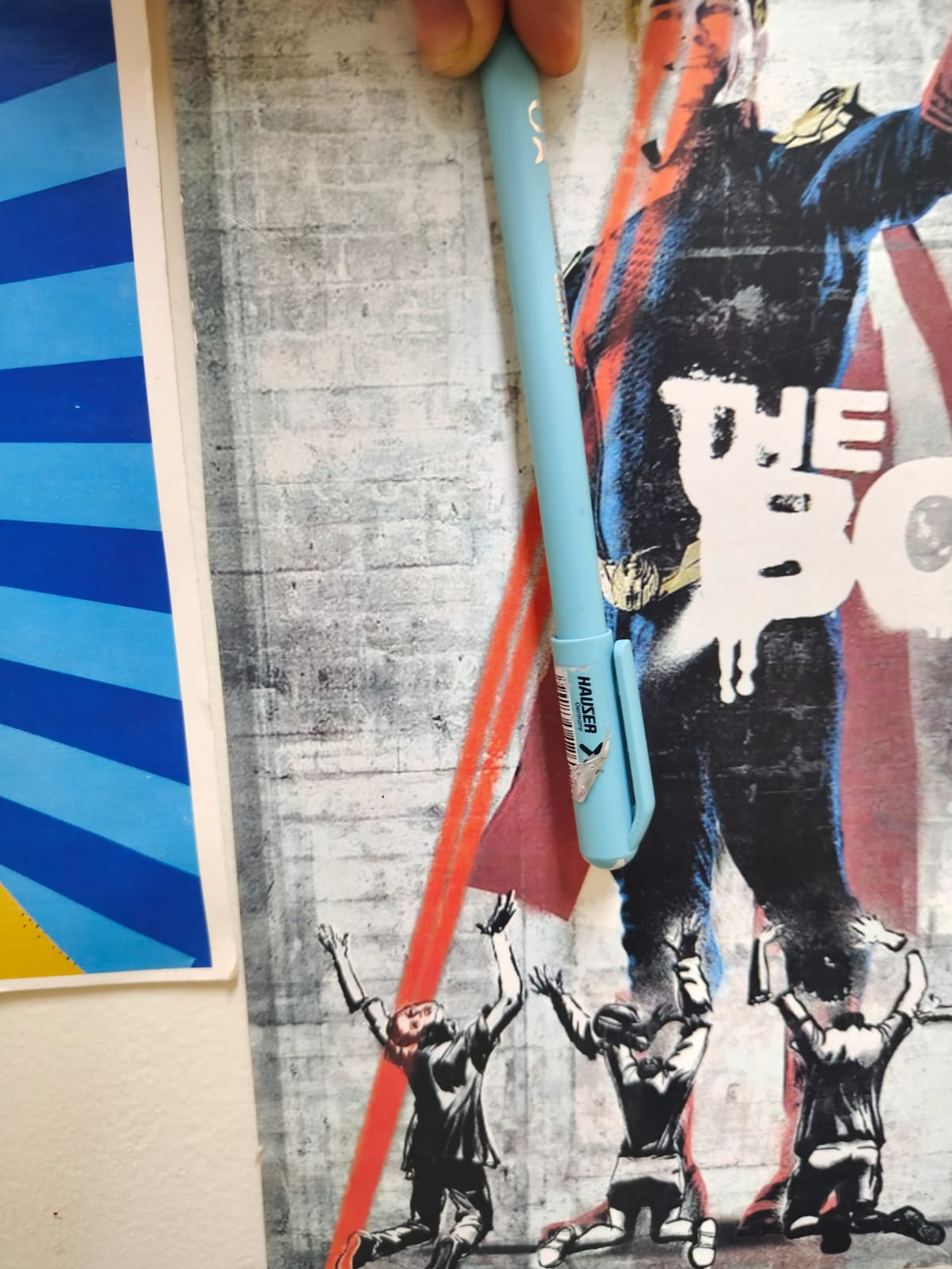pen: (453, 21, 693, 881)
